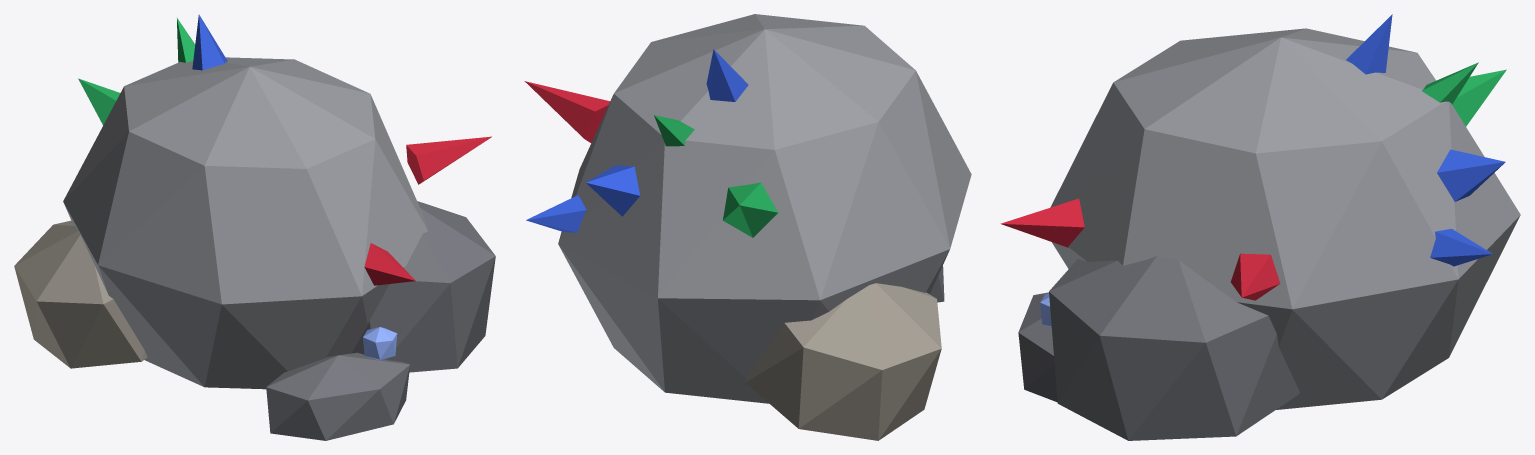
File: rock_gems.glb
The picture shows the model from 3 angles, left to right: view 1: azimuth 30°, elevation 25°; view 2: azimuth 150°, elevation 25°; view 3: azimuth 270°, elevation 25°; orthographic projection. The views are drawn at different scales.
Parts seen in each view (by area): view 1: rock_gems; view 2: rock_gems; view 3: rock_gems.
Boxes of the visible parts, left/top/right/bottom form: rock_gems: left=14, top=14, right=495, bottom=440; rock_gems: left=524, top=14, right=971, bottom=440; rock_gems: left=1000, top=14, right=1520, bottom=440.
Size of the model in its own units: 1.15 by 0.8898 by 1.08.
